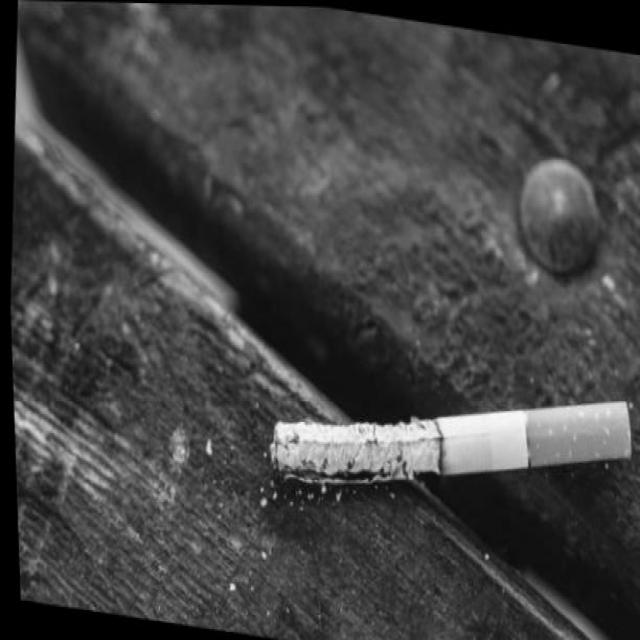cigarette: (260, 344, 637, 530)
